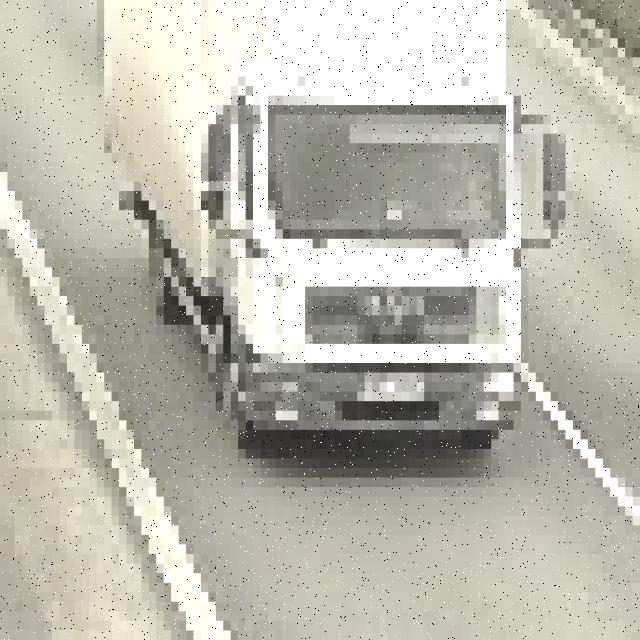truck: (112, 0, 573, 449)
